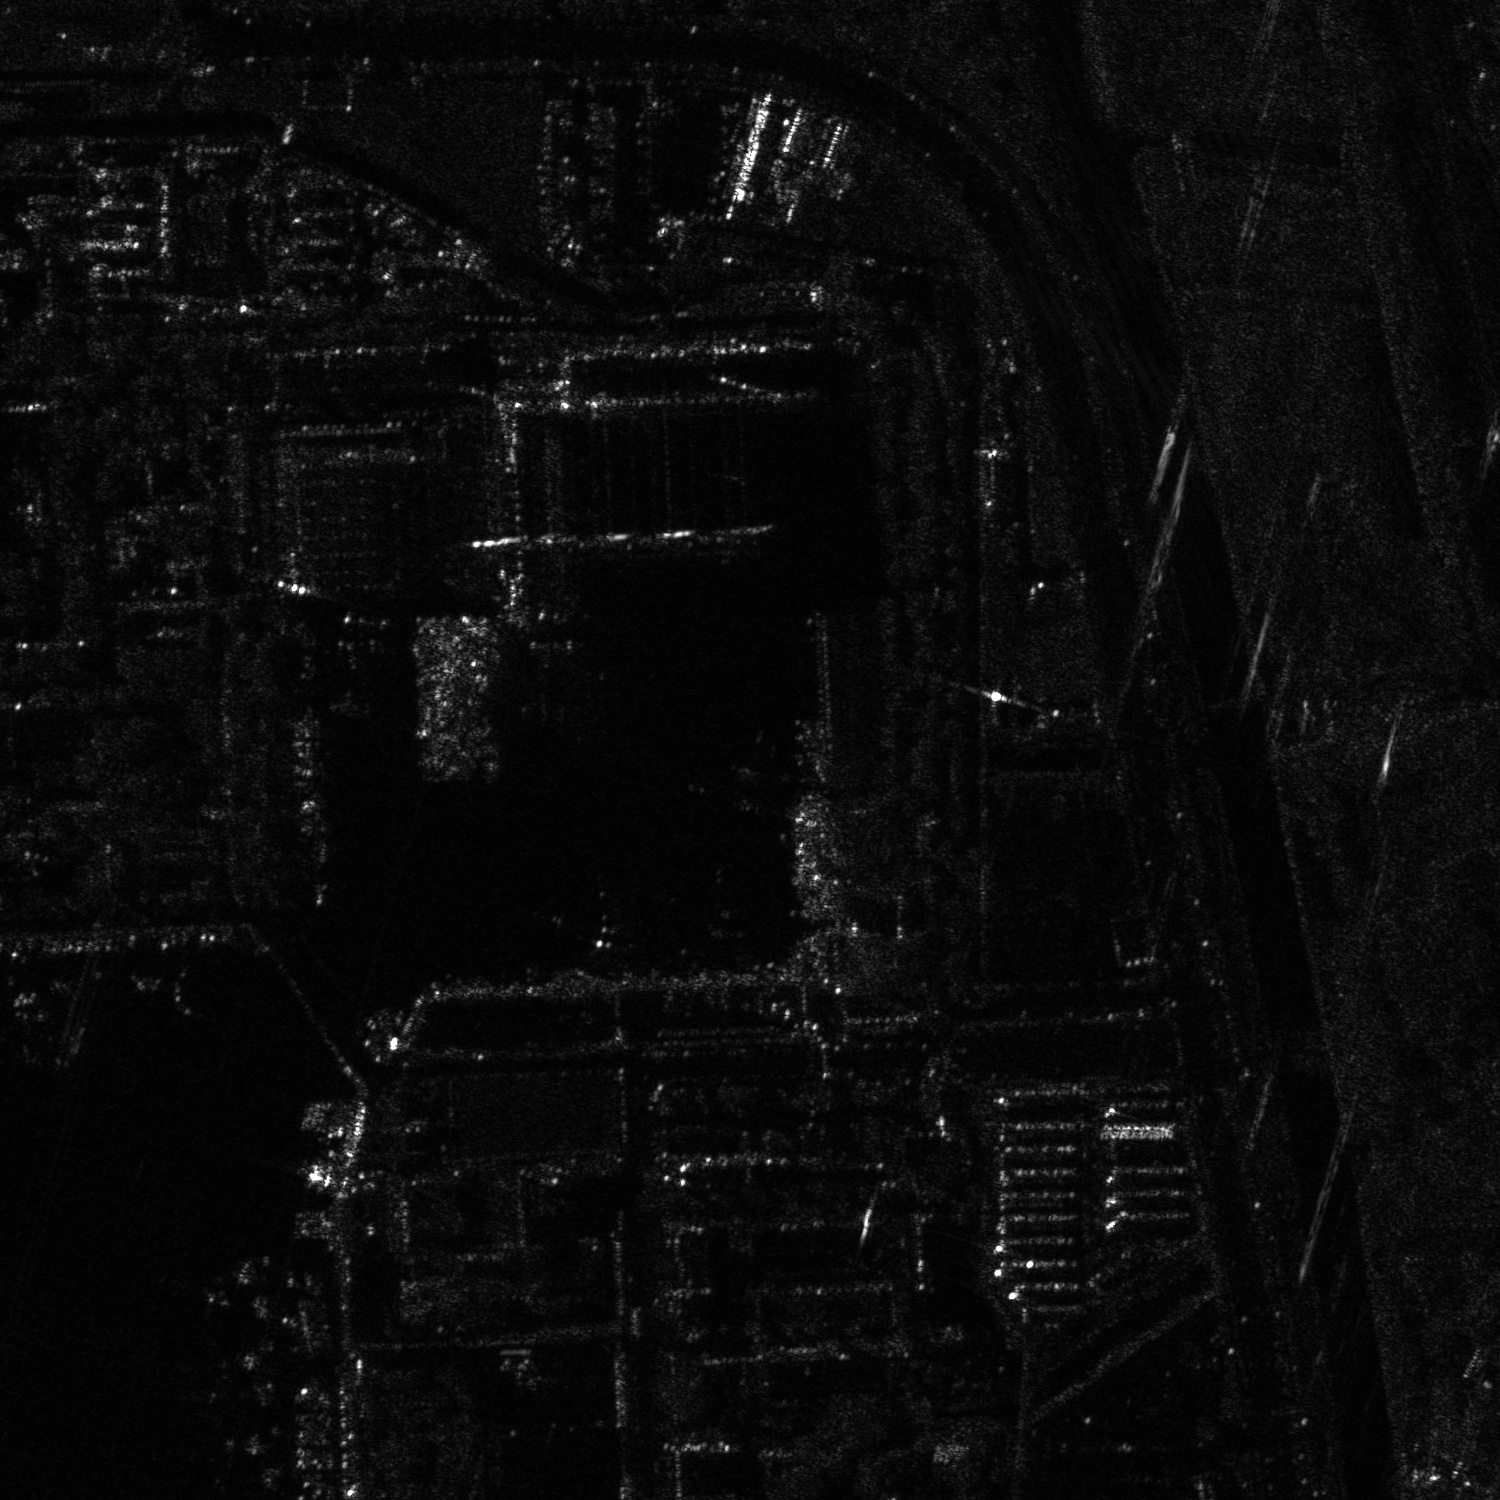Boeing737: (512, 637, 609, 727), (324, 632, 397, 718)
Boeing787: (647, 859, 753, 966)
other: (530, 871, 652, 963), (163, 1418, 275, 1492), (157, 1337, 269, 1409), (163, 1262, 258, 1327)
